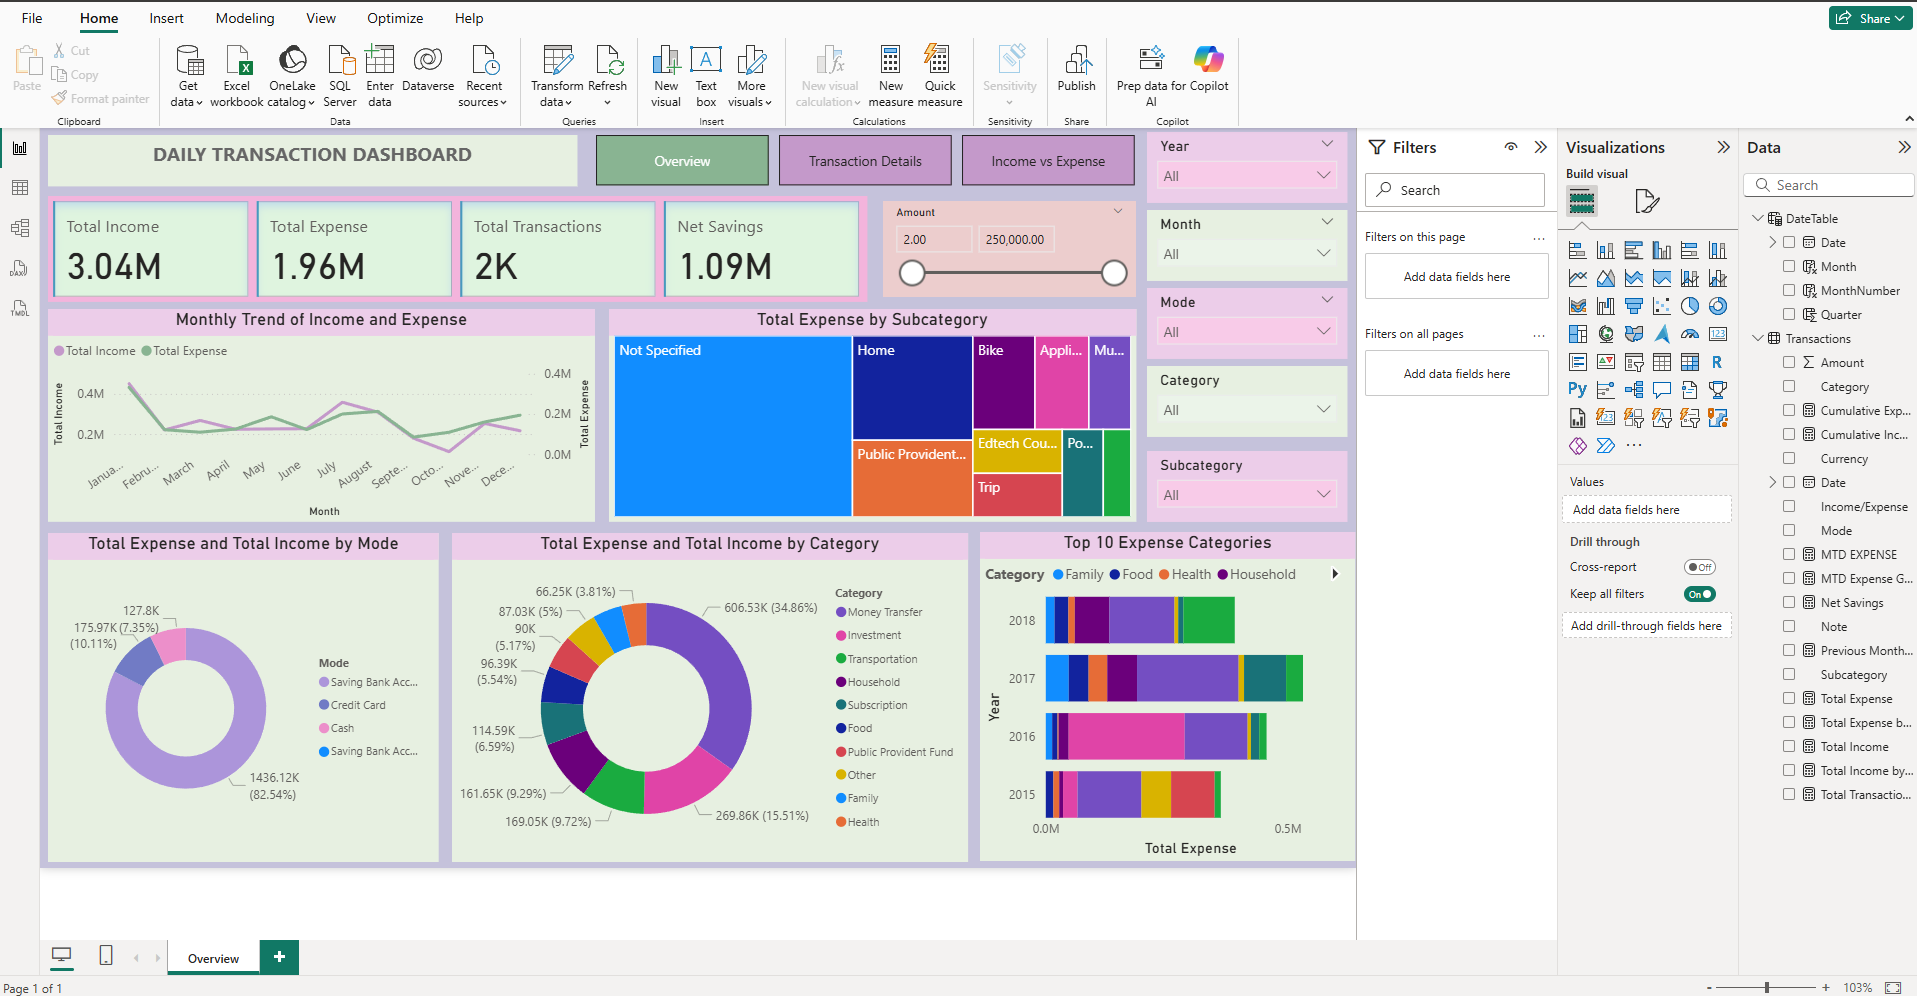

The page's visual inventory and layout, read from the dashboard file:
{"tool":"powerbi","page":{"name":"Overview","canvas":[1280,720],"ordinal":0},"visuals":[{"type":"lineChart","title":"Monthly Trend of Income and Expense","fields":{"Y":["Transactions.Total Income"],"Y2":["Transactions.Total Expense"],"Category":["Transactions.Date.Variation.Date Hierarchy.Month"]},"box":[7.8,175.9,532,207.2],"z":0,"group":"g1"},{"type":"barChart","title":"Top 10 Expense Categories","fields":{"Category":["Transactions.Date.Variation.Date Hierarchy.Year"],"Y":["Transactions.Total Expense"],"Series":["Transactions.Category"]},"box":[914.6,392.8,365.4,320.3],"z":1000,"group":"g1"},{"type":"textbox","box":[7.8,6.8,514.5,49.6],"z":2000},{"type":"cardVisual","fields":{"Data":["Transactions.Total Income","Transactions.Total Expense","Transactions.Total Transactions","Transactions.Net Savings"]},"box":[7.8,66.1,796.6,103.1],"z":2000,"group":"g1"},{"type":"group","id":"g1","title":"Overview","box":[7.8,3.9,1272.2,710.7],"z":3000},{"type":"treemap","fields":{"Values":["Transactions.Total Expense"],"Group":["Transactions.Subcategory"]},"box":[553.5,175.9,512.6,207.2],"z":3000,"group":"g1"},{"type":"bookmarkNavigator","box":[540.7,6.7,526,49.6],"z":4000},{"type":"donutChart","fields":{"Y":["Transactions.Total Expense"],"Category":["Transactions.Mode"]},"box":[7.8,394,380.3,320],"z":4000,"group":"g1"},{"type":"donutChart","fields":{"Y":["Transactions.Total Expense"],"Category":["Transactions.Category"]},"box":[400.4,394.3,501.9,320.3],"z":5000,"group":"g1"},{"type":"slicer","fields":{"Values":["Transactions.Date.Variation.Date Hierarchy.Year"]},"box":[1076.7,3.9,194.5,68.8],"z":6000,"group":"g1"},{"type":"slicer","fields":{"Values":["Transactions.Date.Variation.Date Hierarchy.Month"]},"box":[1076.7,79.5,194.5,68.8],"z":7000,"group":"g1"},{"type":"slicer","fields":{"Values":["Transactions.Category"]},"box":[1076.7,231.8,194.5,68.8],"z":8000,"group":"g1"},{"type":"slicer","fields":{"Values":["Transactions.Subcategory"]},"box":[1076.7,314.3,194.5,68.8],"z":9000,"group":"g1"},{"type":"slicer","fields":{"Values":["Transactions.Amount"]},"box":[820,71,246.1,93.4],"z":10000,"group":"g1"},{"type":"slicer","fields":{"Values":["Transactions.Mode"]},"box":[1076.7,155.2,194.5,68.8],"z":11000,"group":"g1"}]}

Visuals, with their boxes on the page's 1280x720 design canvas (x1, y1, x2, y2). These are canvas units, not pixel positions in the 1917x996 screenshot, which may show the page scaled, cropped or inside an application window:
"Monthly Trend of Income and Expense" lineChart: [8,176,540,383]
"Top 10 Expense Categories" barChart: [915,393,1280,713]
textbox: [8,7,522,56]
cardVisual - Transactions.Total Income x Transactions.Total Expense: [8,66,804,169]
"Overview" group: [8,4,1280,715]
treemap - Transactions.Total Expense x Transactions.Subcategory: [554,176,1066,383]
bookmarkNavigator: [541,7,1067,56]
donutChart - Transactions.Total Expense x Transactions.Mode: [8,394,388,714]
donutChart - Transactions.Total Expense x Transactions.Category: [400,394,902,715]
slicer - Transactions.Date.Variation.Date Hierarchy.Year: [1077,4,1271,73]
slicer - Transactions.Date.Variation.Date Hierarchy.Month: [1077,80,1271,148]
slicer - Transactions.Category: [1077,232,1271,301]
slicer - Transactions.Subcategory: [1077,314,1271,383]
slicer - Transactions.Amount: [820,71,1066,164]
slicer - Transactions.Mode: [1077,155,1271,224]
